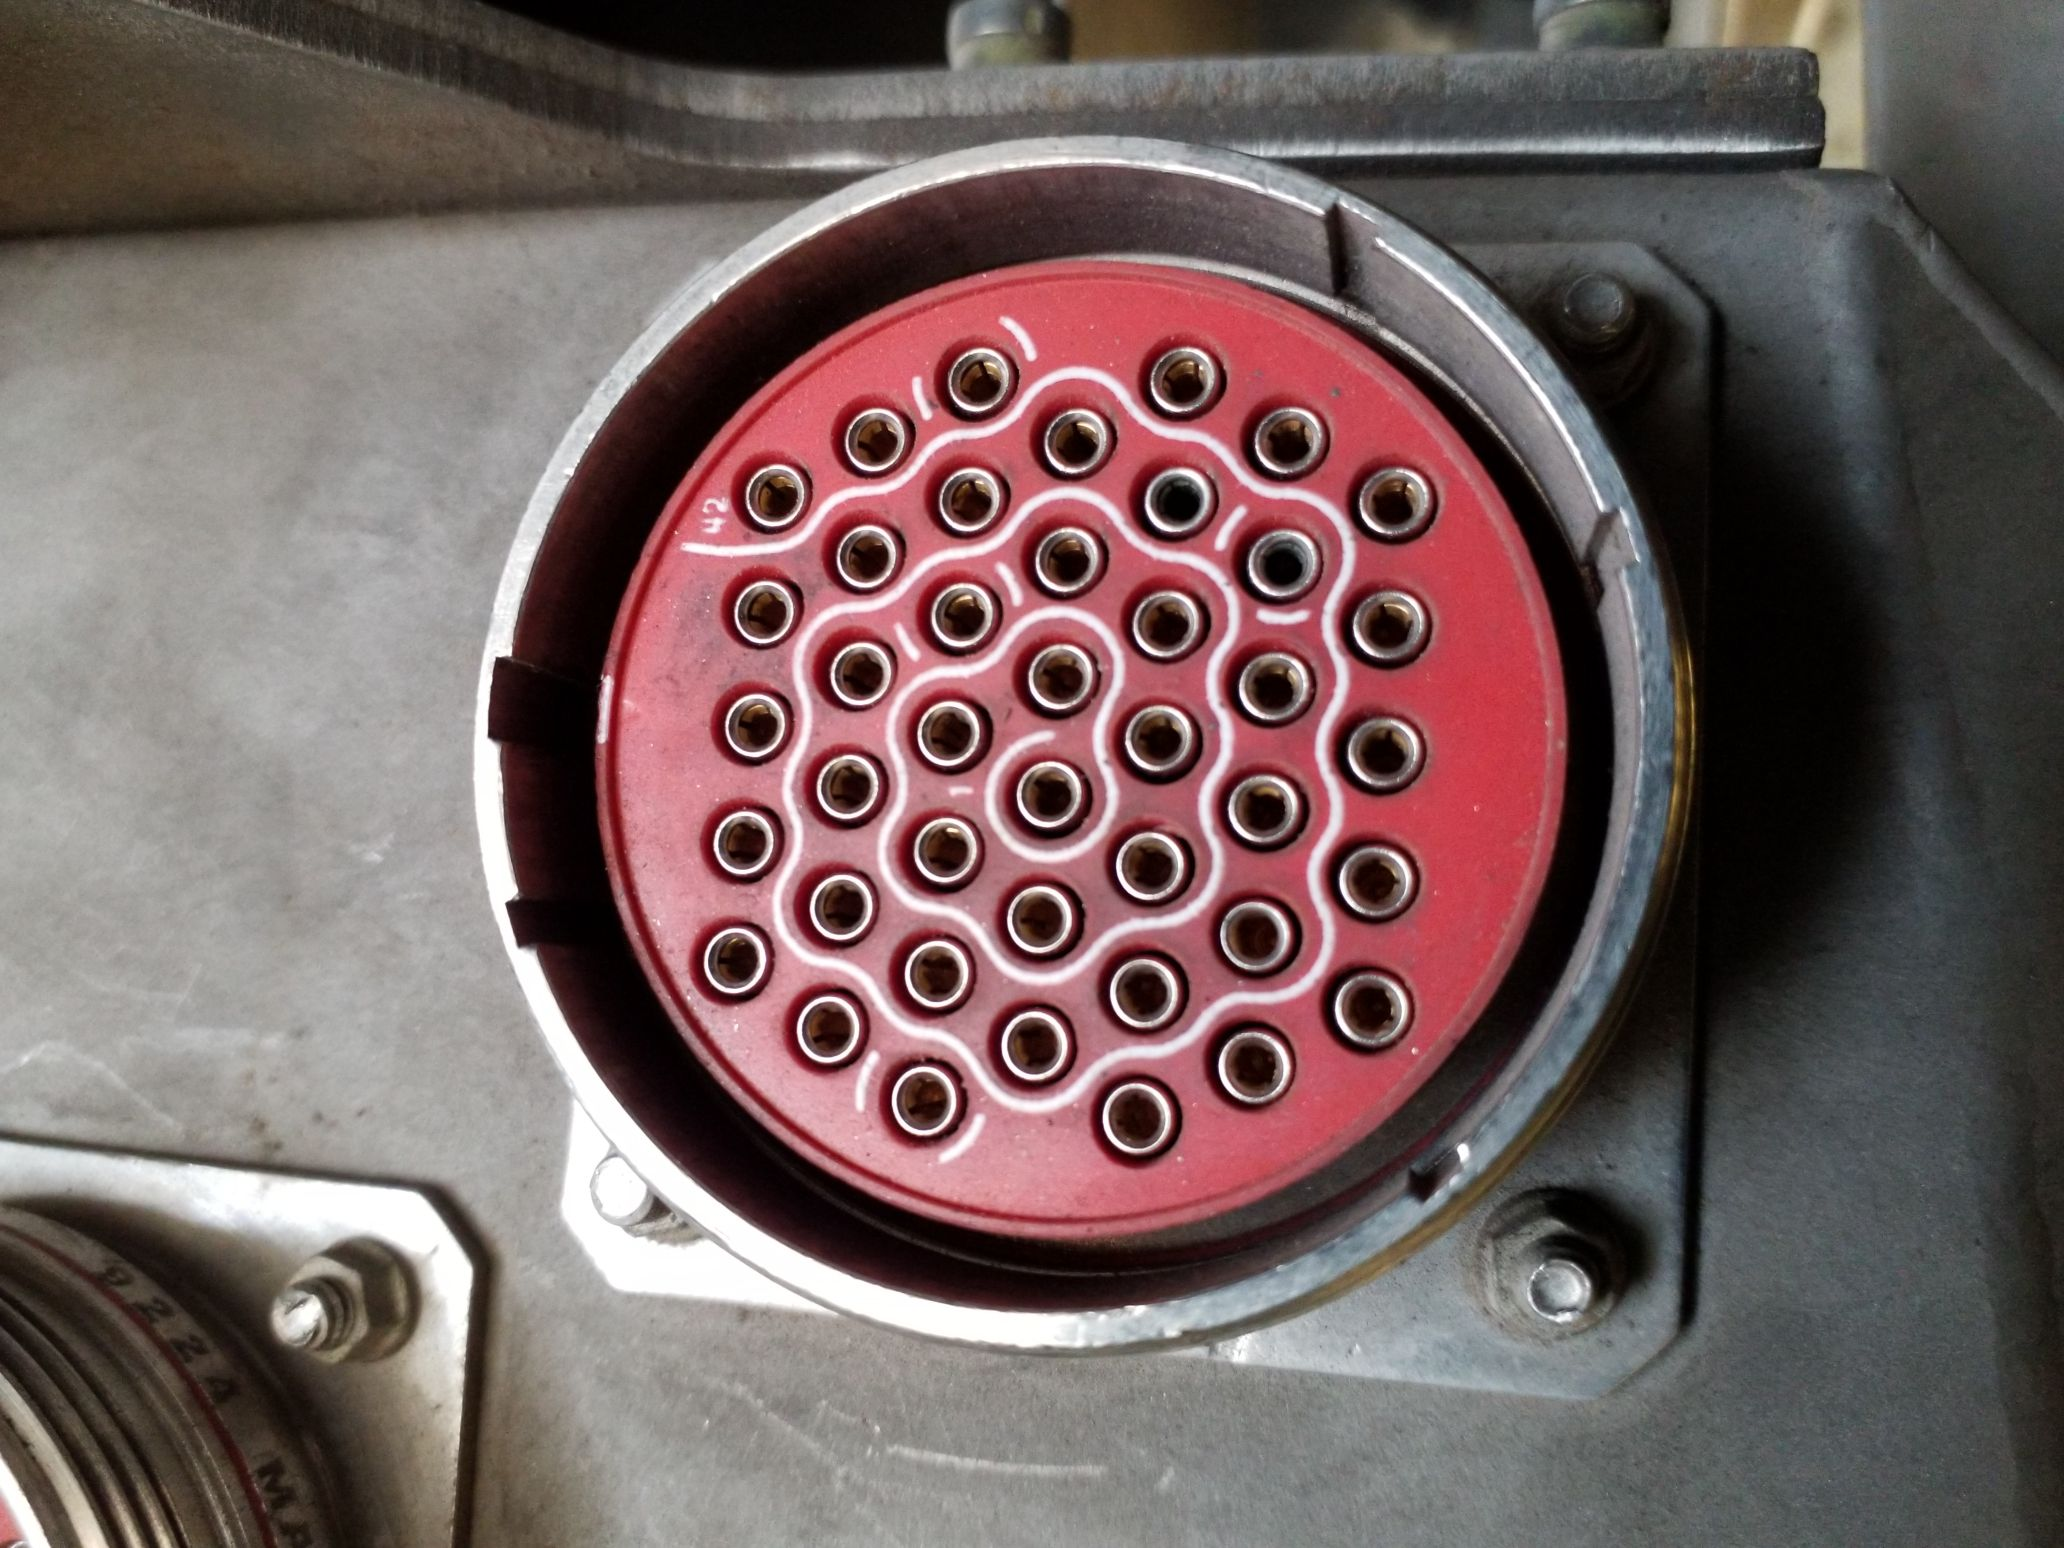inletround: (476, 128, 1723, 1390)
